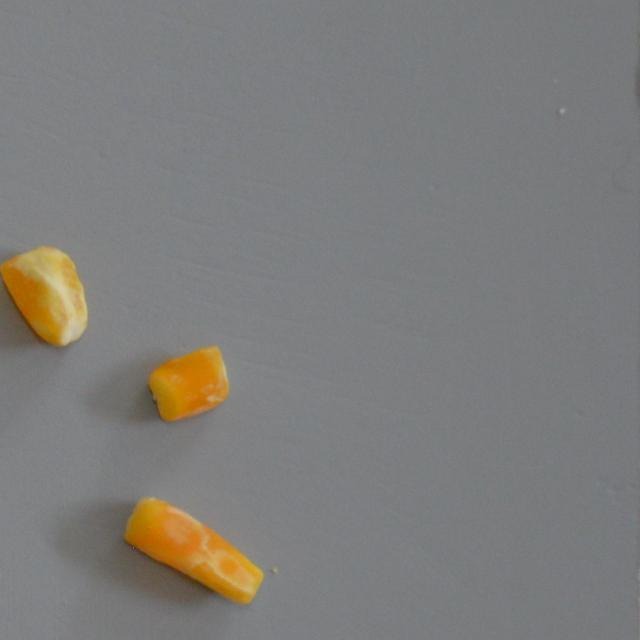dañado: (116, 488, 266, 608), (0, 238, 91, 351), (144, 336, 232, 426)
